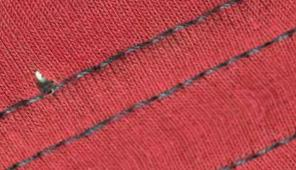hole: (31, 66, 52, 91)
